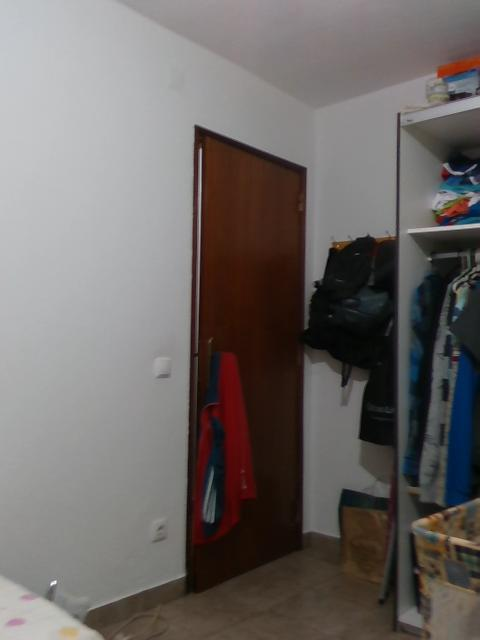door: (194, 134, 302, 594)
